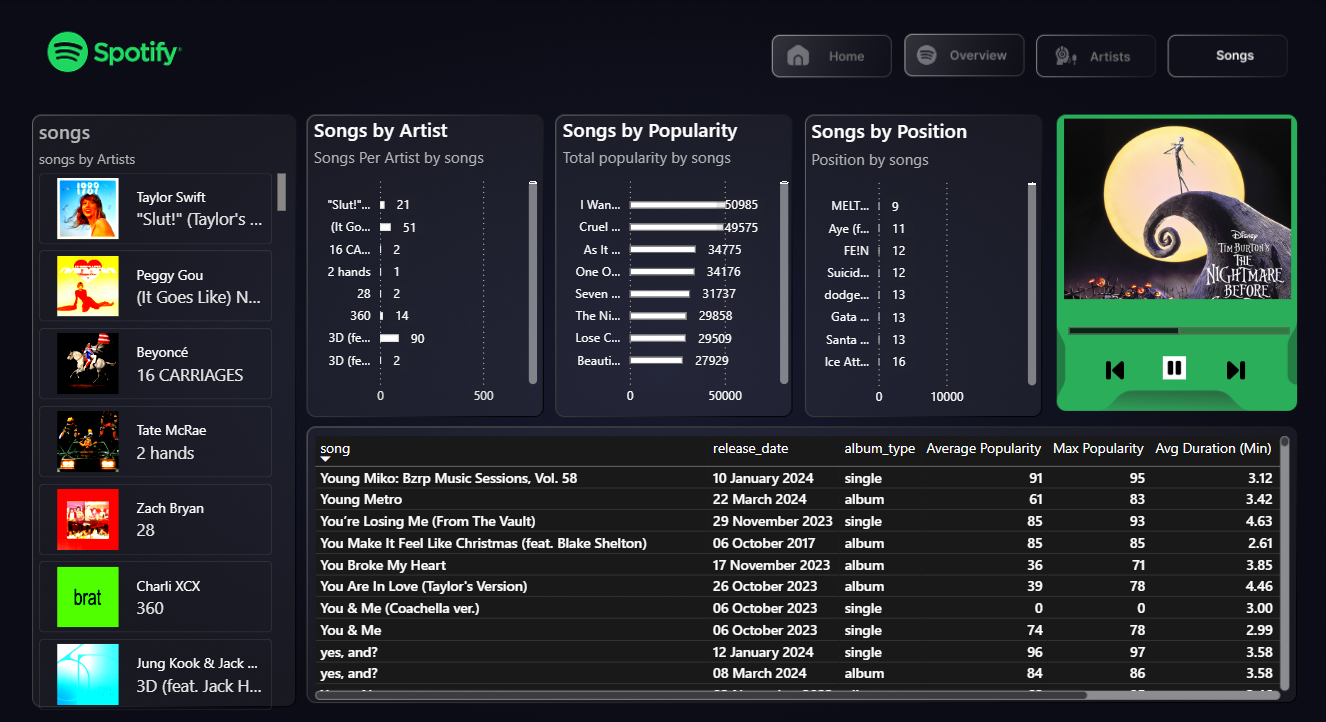

The page's visual inventory and layout, read from the dashboard file:
{"tool":"powerbi","page":{"name":"Songs","canvas":[1280,720],"ordinal":3},"visuals":[{"type":"actionButton","box":[747,33.1,114.6,42.2],"z":0},{"type":"actionButton","box":[870.1,33.1,119.4,42.2],"z":1000},{"type":"actionButton","box":[1000.8,34.9,115,41.2],"z":2000},{"type":"actionButton","box":[1128.3,34.9,115,41.2],"z":3000},{"type":"hundredPercentStackedBarChart","fields":{"Y":["Month.Average Popularity","Avg(Top-50-world.popularity)"]},"box":[1026.7,283.5,223.2,66.4],"z":4000},{"type":"image","box":[1055.3,342,40,30],"z":5000},{"type":"image","box":[1172.8,342,40,30],"z":6000},{"type":"image","box":[1106.6,339.5,55,32.5],"z":7000},{"type":"advancedSlicerVisual","title":"songs ","fields":{"Values":["Top-50-world.song"]},"box":[32.9,114.3,248.6,577.1],"z":8000},{"type":"clusteredBarChart","title":" Songs by Artist","fields":{"Y":["Month.Songs Per Artist"],"Category":["Top-50-world.song"]},"box":[298,112.2,225.6,287.1],"z":9000},{"type":"clusteredBarChart","title":" Songs by Popularity","fields":{"Y":["Sum(Top-50-world.popularity)"],"Category":["Top-50-world.song"]},"box":[538.1,112.2,228,287.1],"z":10000},{"type":"clusteredBarChart","title":" Songs by Position","fields":{"Category":["Top-50-world.song"],"Y":["Sum(Top-50-world.position)"]},"box":[778.6,112.9,227.1,287.1],"z":11000},{"type":"tableEx","fields":{"Values":["Top-50-world.song","Top-50-world.release_date","Top-50-world.album_type","Month.Average Popularity","Month.Max Popularity","Month.Avg Duration (Min)","Month.Avg Tracks Per Album","Month.Min Popularity"]},"box":[298.6,415.7,951.4,264.3],"z":12000},{"type":"cardVisual","fields":{"Data":["Min(Top-50-world.album_cover_url)"]},"box":[870,112.9,374.3,181.4],"z":13000}]}

Visuals, with their boxes on the page's 1280x720 design canvas (x1, y1, x2, y2). These are canvas units, not pixel positions in the 1326x722 screenshot, which may show the page scaled, cropped or inside an application window:
actionButton: x1=747, y1=33, x2=862, y2=75
actionButton: x1=870, y1=33, x2=990, y2=75
actionButton: x1=1001, y1=35, x2=1116, y2=76
actionButton: x1=1128, y1=35, x2=1243, y2=76
hundredPercentStackedBarChart - Month.Average Popularity x Avg(Top-50-world.popularity): x1=1027, y1=284, x2=1250, y2=350
image: x1=1055, y1=342, x2=1095, y2=372
image: x1=1173, y1=342, x2=1213, y2=372
image: x1=1107, y1=340, x2=1162, y2=372
"songs " advancedSlicerVisual: x1=33, y1=114, x2=282, y2=691
" Songs by Artist" clusteredBarChart: x1=298, y1=112, x2=524, y2=399
" Songs by Popularity" clusteredBarChart: x1=538, y1=112, x2=766, y2=399
" Songs by Position" clusteredBarChart: x1=779, y1=113, x2=1006, y2=400
tableEx - Top-50-world.song x Top-50-world.release_date: x1=299, y1=416, x2=1250, y2=680
cardVisual - Min(Top-50-world.album_cover_url): x1=870, y1=113, x2=1244, y2=294
